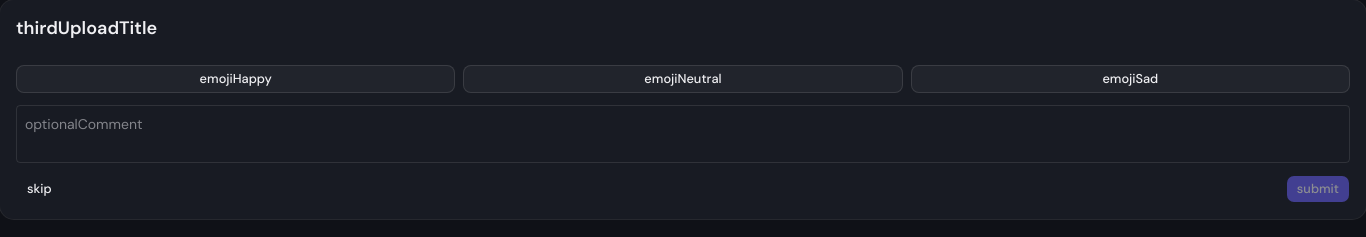
it: MilestoneFeedbackCard › submit is disabled until a value is selected
Expected: the button with test id "milestone-submit" is disabled, x1=1286 y1=175 x2=1350 y2=203
What coordinates should you click on to do the following:
click the button with test id "emoji-neutral"
I would click on:
 (683, 79)
Its box is x1=463 y1=65 x2=903 y2=93.
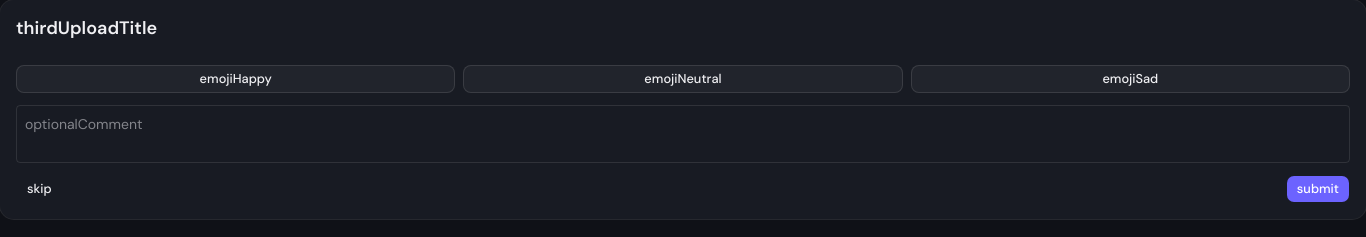
Expected: the button with test id "milestone-submit" is enabled, x1=1286 y1=175 x2=1350 y2=203
